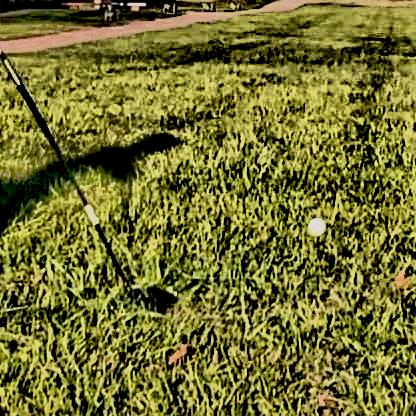golfball: (304, 213, 323, 232)
